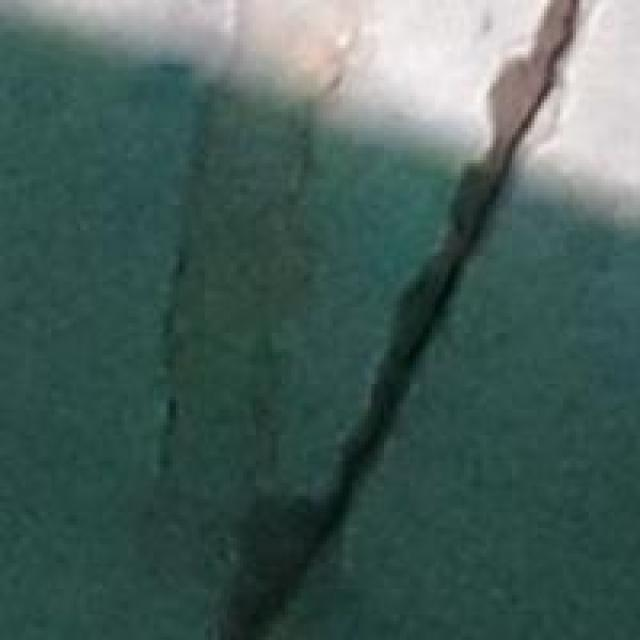Crack: (212, 3, 582, 637)
